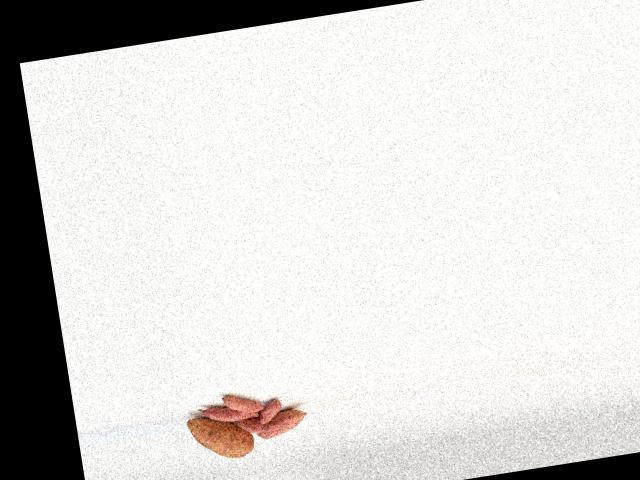sweet_potato: (255, 406, 311, 439)
